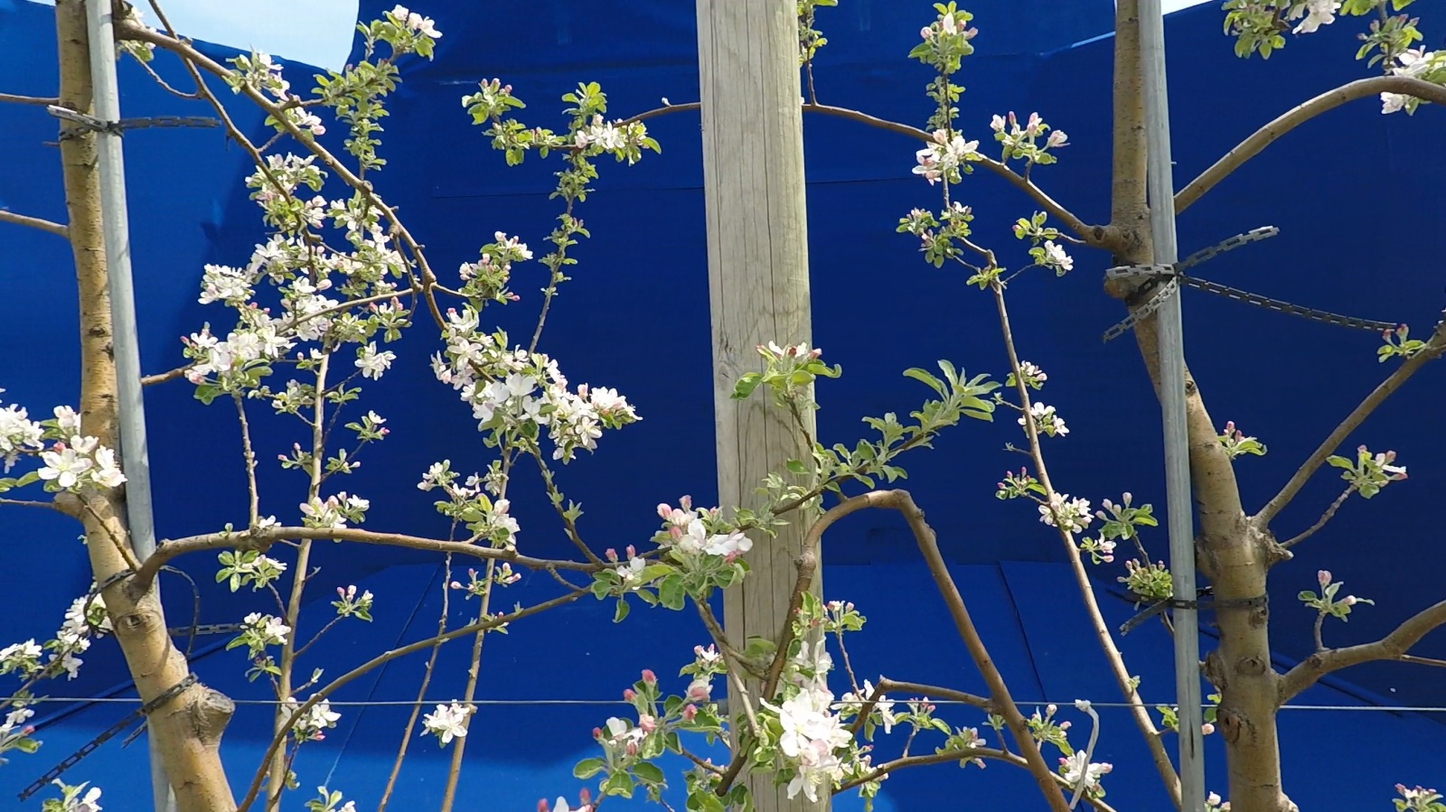flower: (779, 650, 853, 803), (185, 309, 334, 382), (431, 329, 539, 429), (541, 354, 643, 454), (658, 496, 753, 562), (199, 235, 288, 305), (39, 406, 99, 487), (913, 135, 980, 186), (562, 113, 629, 150), (0, 405, 49, 452), (422, 704, 470, 747), (1288, 0, 1344, 34), (371, 223, 408, 273), (355, 341, 396, 381), (58, 595, 89, 645), (1396, 46, 1442, 79), (312, 247, 366, 275), (92, 445, 127, 488), (490, 500, 521, 545), (1052, 493, 1094, 523), (517, 392, 552, 425), (300, 496, 343, 521), (495, 232, 533, 259), (1060, 745, 1087, 783), (289, 276, 332, 299), (446, 303, 480, 332), (0, 639, 42, 661), (406, 14, 443, 38), (296, 295, 343, 313), (303, 196, 328, 229), (296, 107, 325, 135), (1046, 241, 1073, 271), (309, 705, 341, 729), (266, 615, 291, 645), (840, 679, 871, 703), (876, 703, 900, 734), (418, 463, 443, 492), (632, 704, 657, 733), (607, 718, 638, 741), (1381, 92, 1413, 114), (1378, 451, 1406, 476), (686, 675, 711, 703), (62, 649, 83, 681), (319, 513, 353, 532), (618, 557, 646, 580), (508, 345, 533, 370), (6, 709, 34, 730), (270, 72, 290, 101), (258, 51, 284, 71), (81, 788, 102, 812), (336, 213, 357, 235), (311, 349, 328, 376), (1085, 764, 1102, 790), (1094, 534, 1116, 554), (553, 797, 579, 812), (1052, 415, 1069, 437), (553, 439, 570, 461), (385, 5, 408, 21), (769, 341, 788, 360), (1026, 113, 1043, 134), (1047, 131, 1068, 148), (347, 495, 370, 510), (1030, 403, 1056, 416), (943, 13, 957, 36), (253, 516, 276, 530), (460, 262, 477, 280), (991, 116, 1006, 135), (1039, 506, 1054, 525), (580, 788, 593, 809), (794, 342, 809, 359), (370, 411, 387, 424), (865, 680, 875, 700), (1318, 571, 1332, 585), (624, 689, 637, 704), (298, 246, 310, 262), (245, 613, 261, 625), (643, 670, 657, 682), (331, 200, 347, 210), (539, 799, 549, 812), (301, 268, 310, 275), (1385, 475, 1393, 481), (944, 137, 949, 142)
